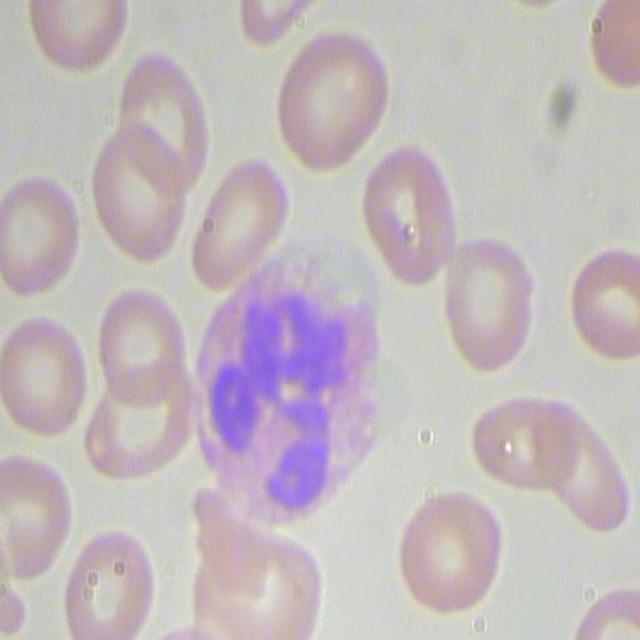RBC: (192, 470, 330, 639), (277, 31, 392, 176), (361, 140, 459, 288), (436, 233, 538, 370), (89, 128, 188, 268), (187, 156, 286, 292), (392, 490, 500, 612), (89, 279, 191, 402), (82, 377, 195, 485), (122, 49, 210, 180), (470, 388, 573, 499), (0, 312, 87, 441), (62, 528, 157, 637), (0, 173, 77, 296), (565, 241, 640, 363), (0, 449, 68, 576), (24, 0, 130, 74), (587, 1, 640, 86), (236, 0, 323, 41)
WBC: (208, 264, 370, 513)
